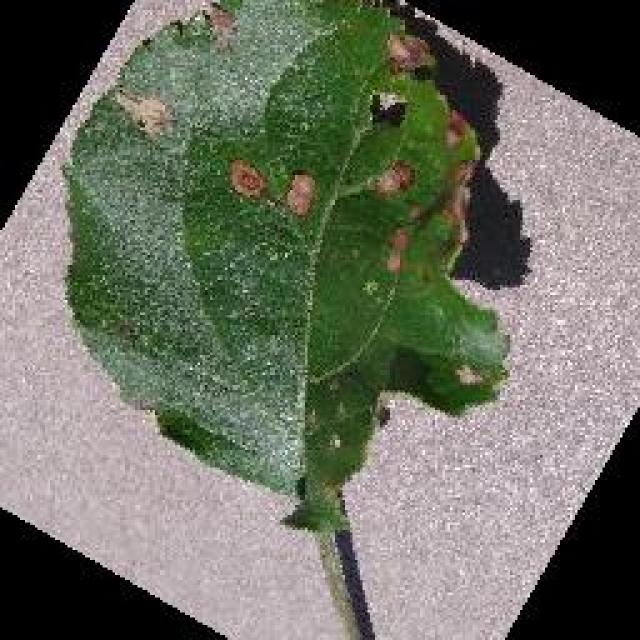Black_rot: (57, 0, 510, 532)
